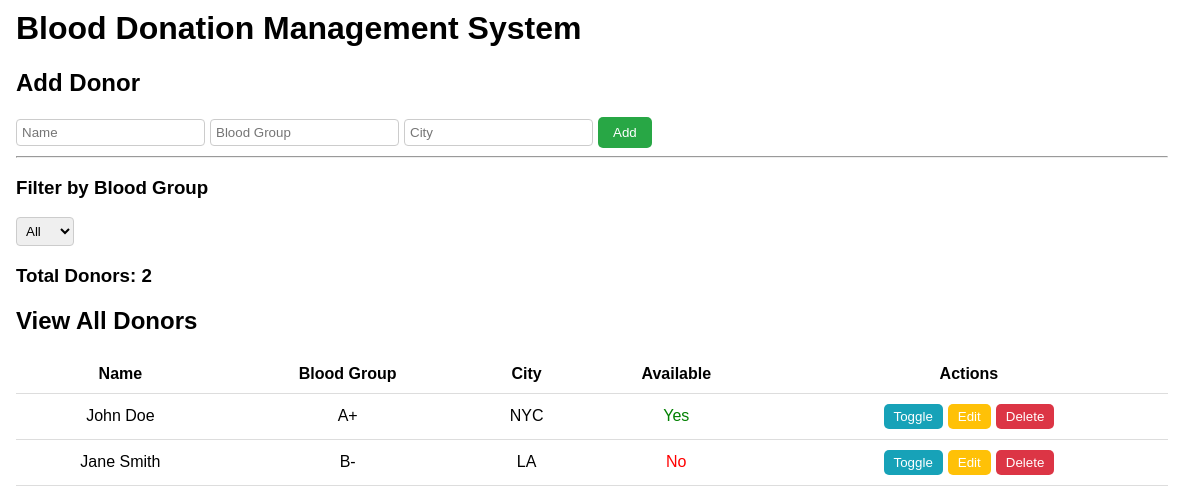
DonorList › filters donors by blood group
The width and height of the screenshot is (1185, 503).
Check: the text "Jane Smith" is shown, box [16,439,225,485]
Select "A+" in the dropdown: (45, 232) [16,217,74,246]
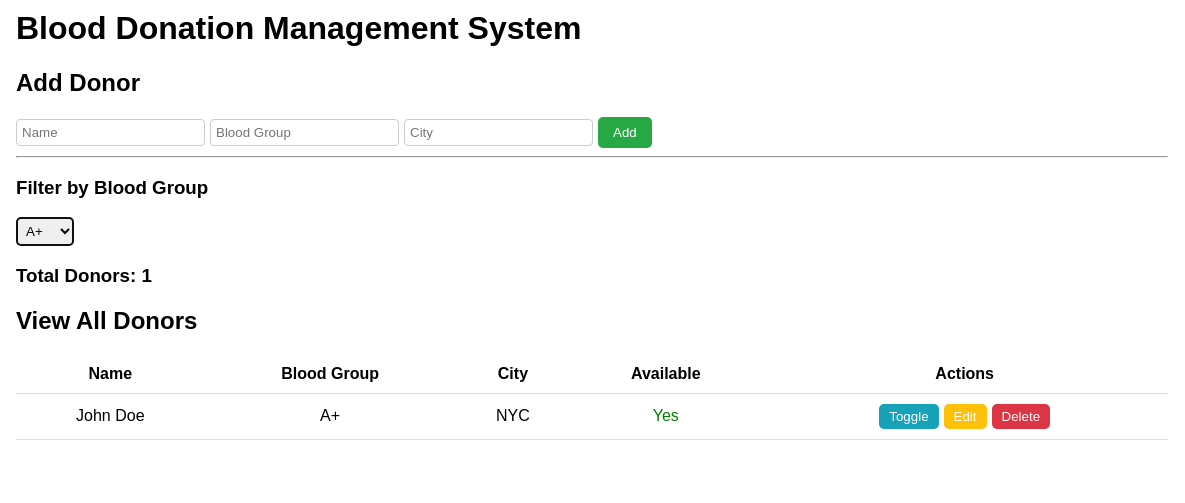
Check: the text "John Doe" is shown, box [16,393,205,439]
Check: the text "Jane Smith" is gone
